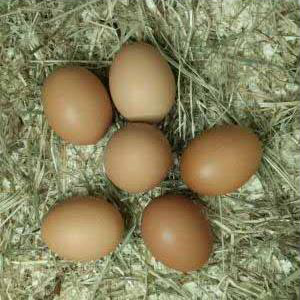egg: (180, 126, 263, 195), (141, 196, 214, 272), (43, 66, 112, 144), (109, 43, 177, 122), (42, 197, 124, 262), (104, 122, 173, 193)
